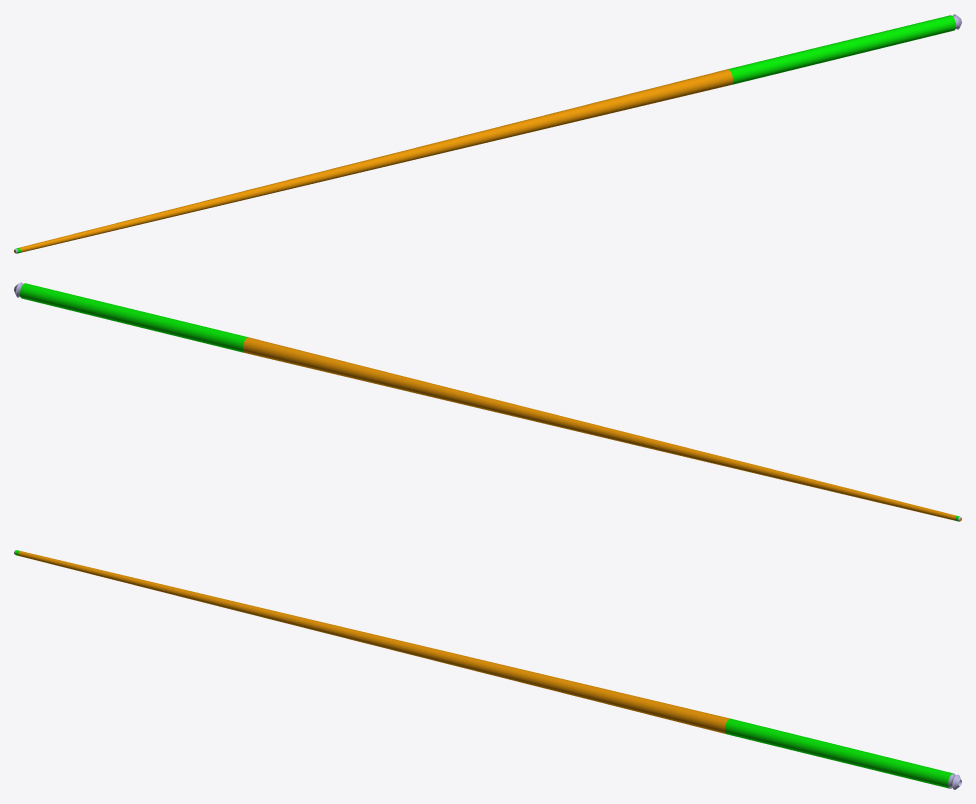
The model's file is PoolQ.fbx.
The picture shows the model from 3 angles, top to bottom: view 1: azimuth 30°, elevation 25°; view 2: azimuth 150°, elevation 25°; view 3: azimuth 330°, elevation 25°; orthographic projection.
Parts seen in each view (by area): view 1: Pool_Cue; view 2: Pool_Cue; view 3: Pool_Cue.
Boxes of the visible parts, x1,y1,x2,y2 form: Pool_Cue: (14,14,961,253); Pool_Cue: (14,282,961,521); Pool_Cue: (14,550,961,789).
Bounding box in the file's own units: 2.41 × 0.0362 × 0.0362.
